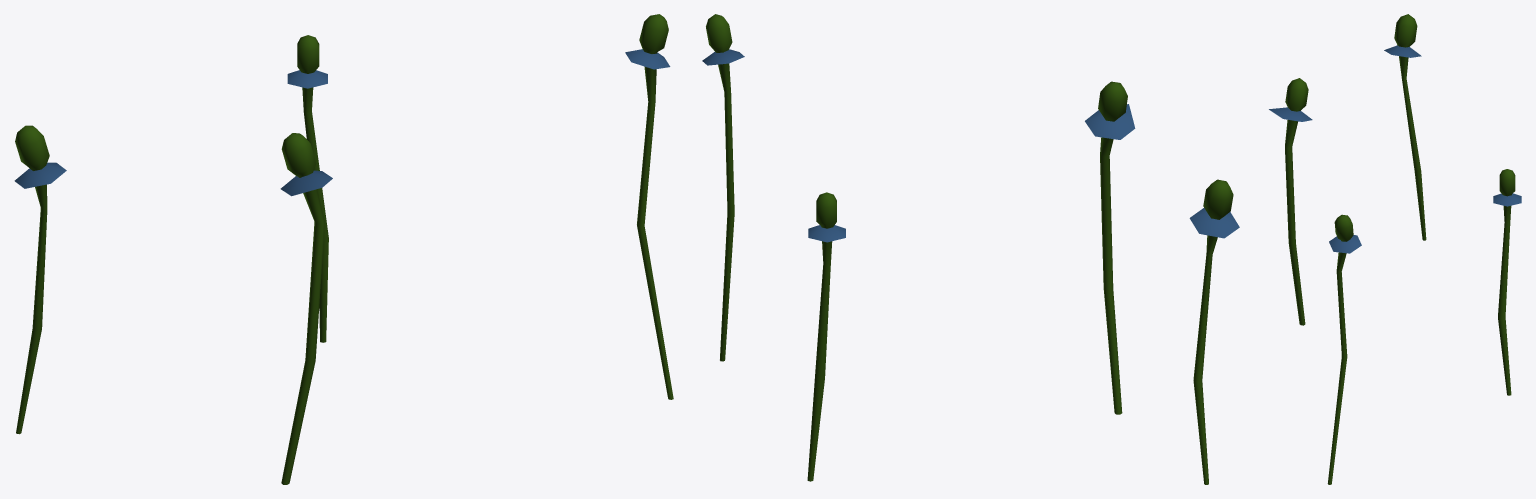
The model's file is ParsiTendrilSpikes06.FBX.
The picture shows the model from 3 angles, left to right: view 1: azimuth 30°, elevation 25°; view 2: azimuth 150°, elevation 25°; view 3: azimuth 270°, elevation 25°; orthographic projection. The views are drawn at different scales.
Visible parts, largest first — view 1: parsiTendrilSpikes06_LOD0; view 2: parsiTendrilSpikes06_LOD0; view 3: parsiTendrilSpikes06_LOD0.
Part boxes in pixels (x1,y1,x2,y2): parsiTendrilSpikes06_LOD0: [14, 14, 673, 484]; parsiTendrilSpikes06_LOD0: [702, 14, 1239, 484]; parsiTendrilSpikes06_LOD0: [1269, 14, 1521, 484].
Size of what is drawn, in the model's own units: 1.34 by 0.7988 by 0.6841.
